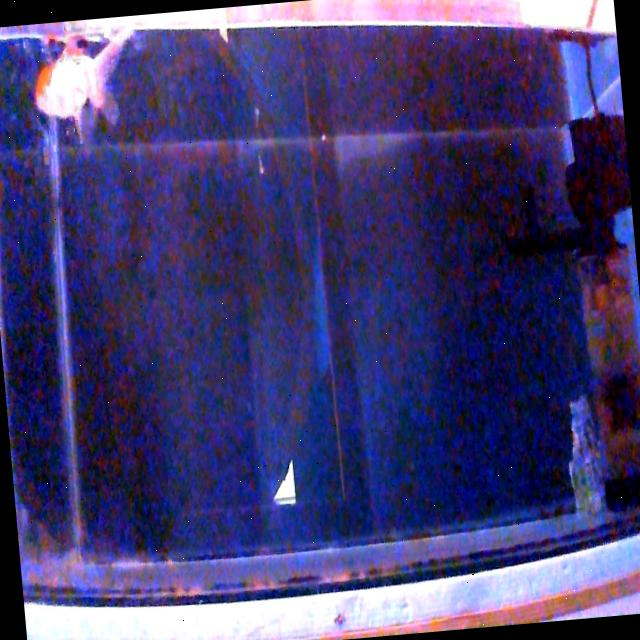fish: (30, 31, 136, 126)
